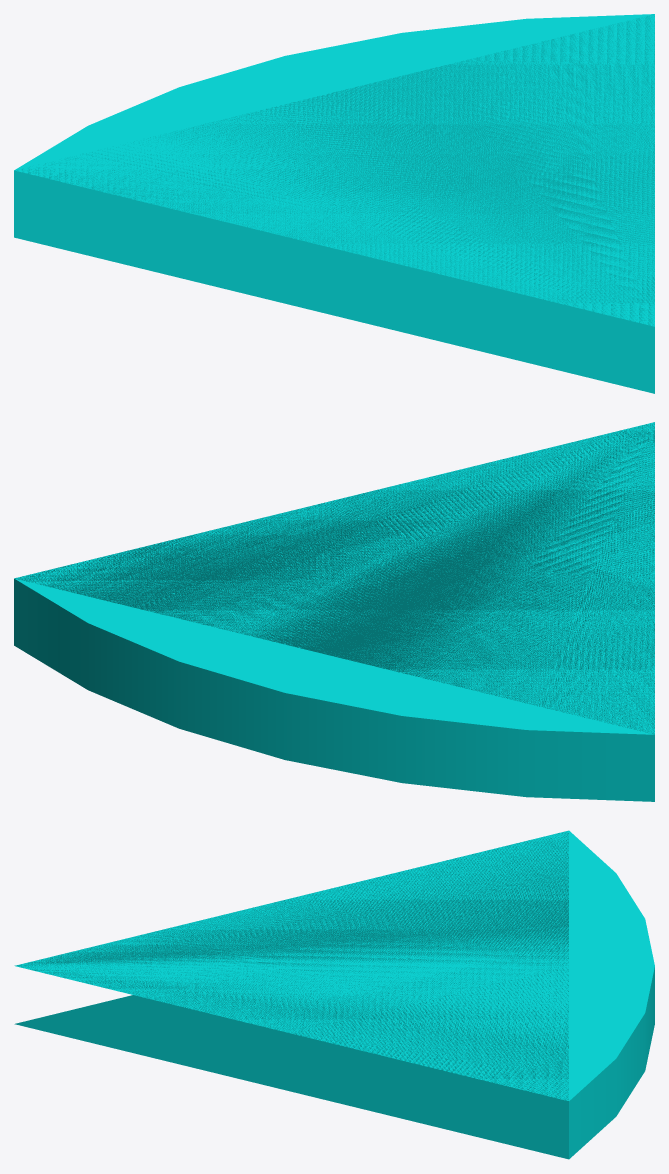
File: body_4.fbx
The picture shows the model from 3 angles, top to bottom: view 1: azimuth 30°, elevation 25°; view 2: azimuth 150°, elevation 25°; view 3: azimuth 270°, elevation 25°; orthographic projection. The views are drawn at different scales.
Parts seen in each view (by area): view 1: pCylinder143; view 2: pCylinder143; view 3: pCylinder143.
Boxes of the visible parts, x1=… form: pCylinder143: x1=14, y1=14, x2=654, y2=393; pCylinder143: x1=14, y1=422, x2=654, y2=801; pCylinder143: x1=14, y1=830, x2=654, y2=1159.
Bounding box in the file's own units: 4.12 × 0.4121 × 4.12.
